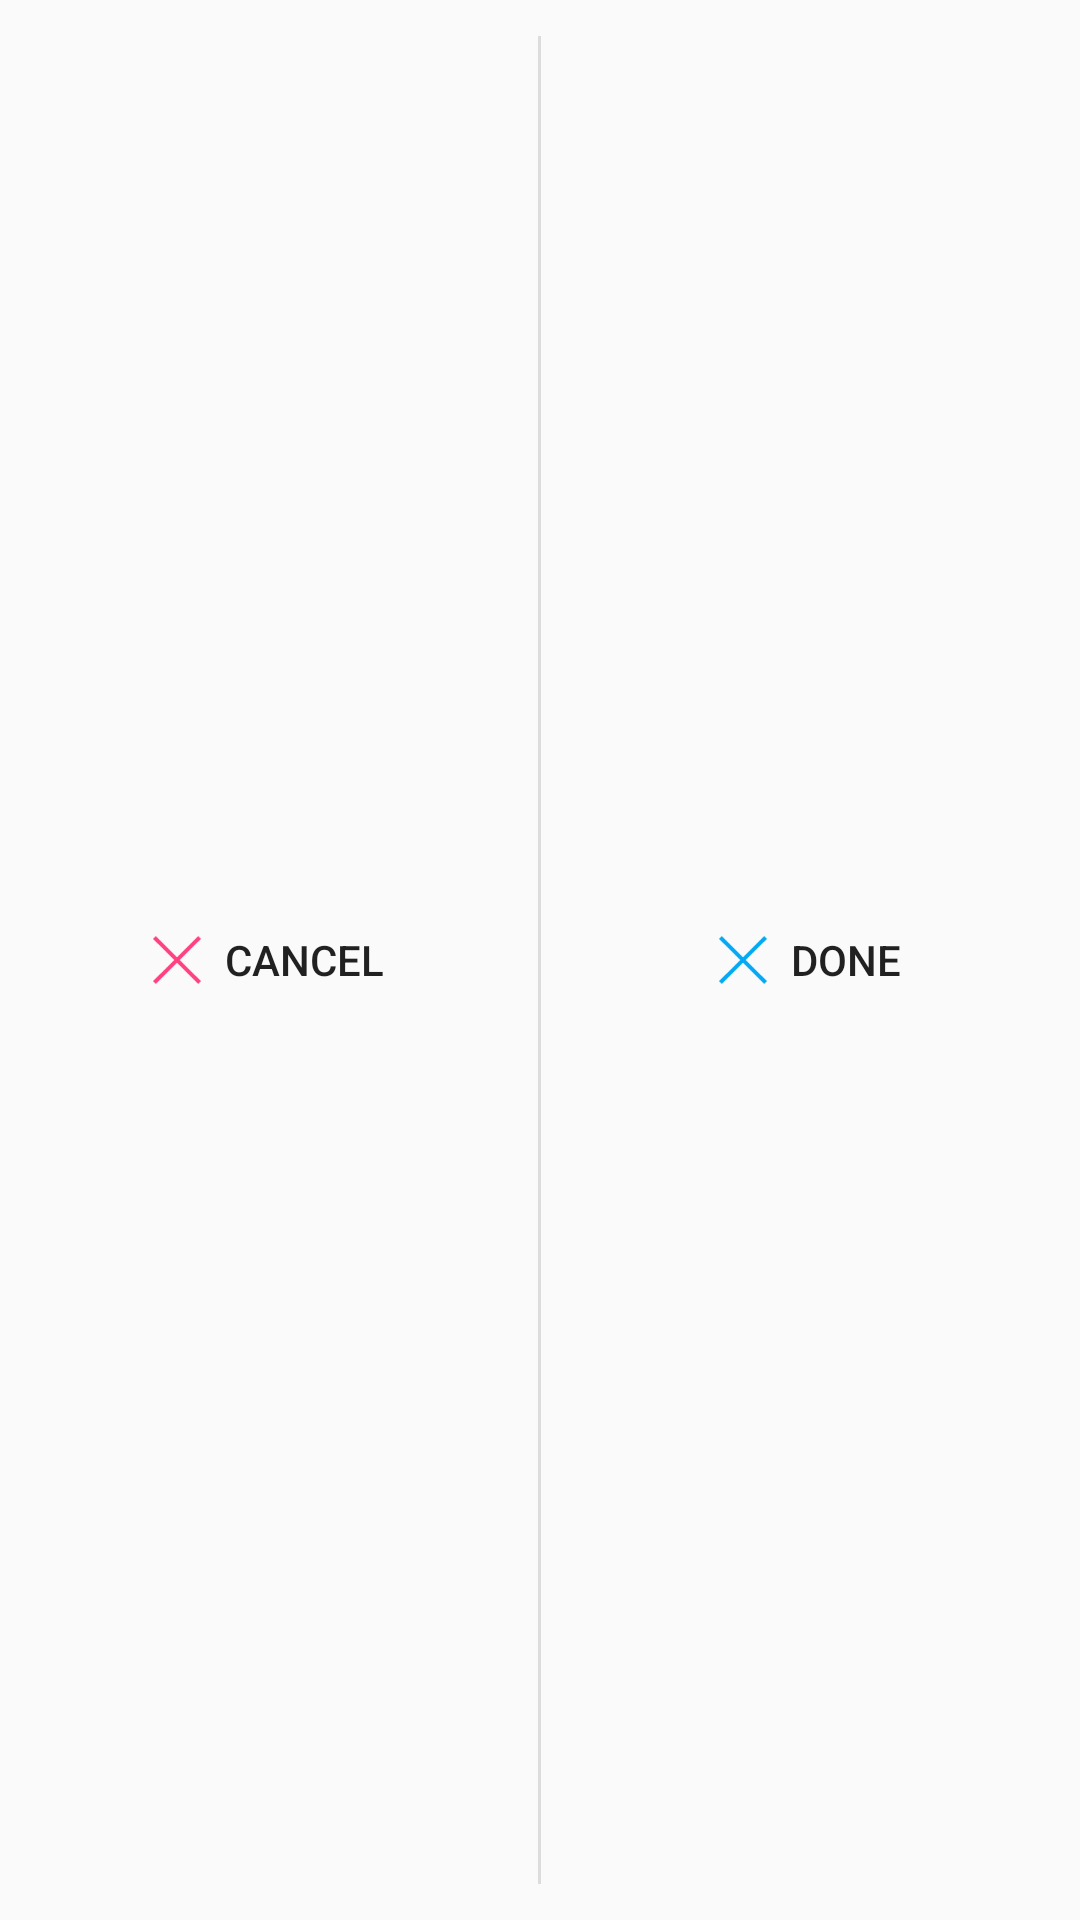

Where to tap for icons on this 1080*1920 app screen, as [x,y]:
cross: [177,960], [743,960]
